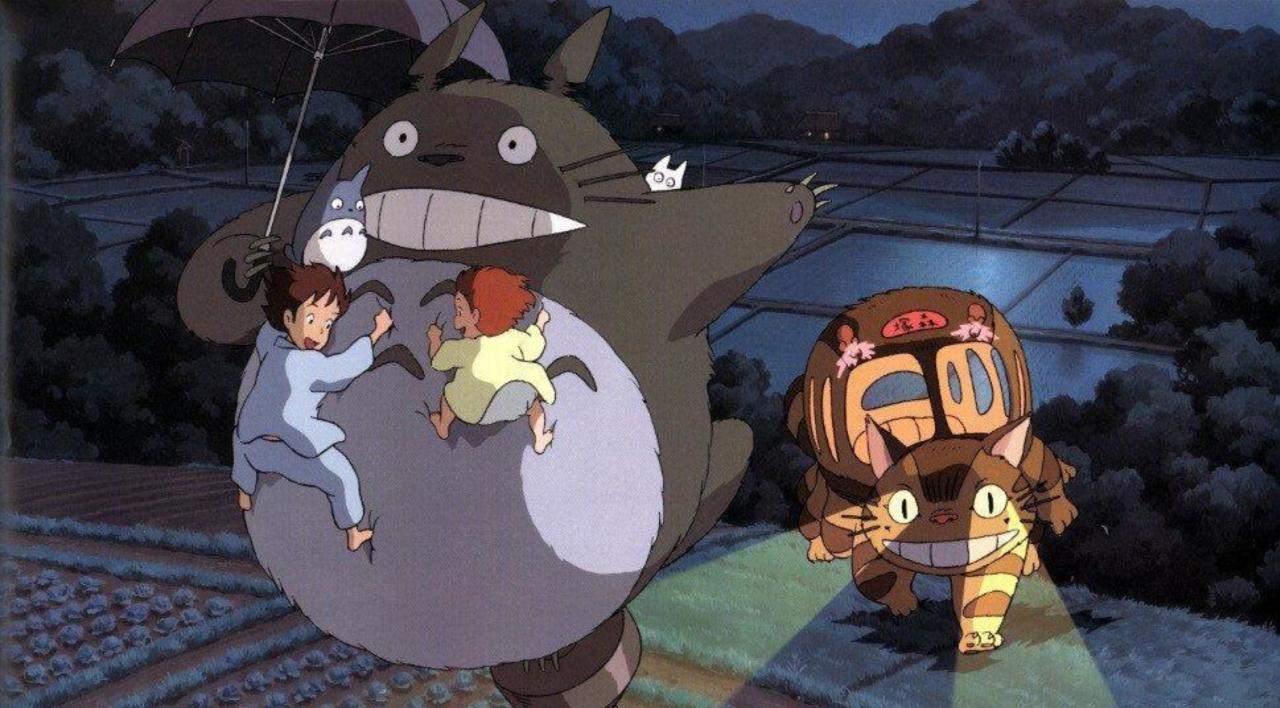Totoro: (177, 3, 847, 670)
